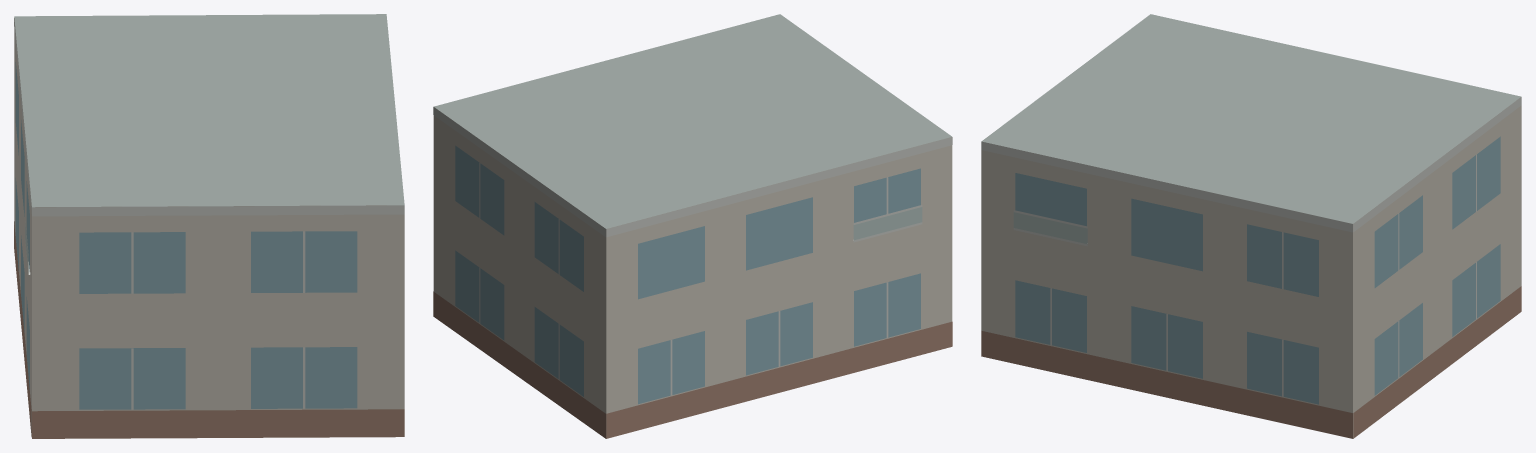
File: survey-upis-32784338.glb
The picture shows the model from 3 angles, left to right: view 1: azimuth 30°, elevation 25°; view 2: azimuth 150°, elevation 25°; view 3: azimuth 270°, elevation 25°; orthographic projection. The views are drawn at different scales.
Parts seen in each view (by area): view 1: survey-upis-32784338.tmp; view 2: survey-upis-32784338.tmp; view 3: survey-upis-32784338.tmp.
Part boxes in pixels (x1,y1,x2,y2): survey-upis-32784338.tmp: (14,14,404,438); survey-upis-32784338.tmp: (433,14,952,438); survey-upis-32784338.tmp: (981,14,1521,438).
Size of the model in its own units: 12.79 by 6.1 by 13.91.
